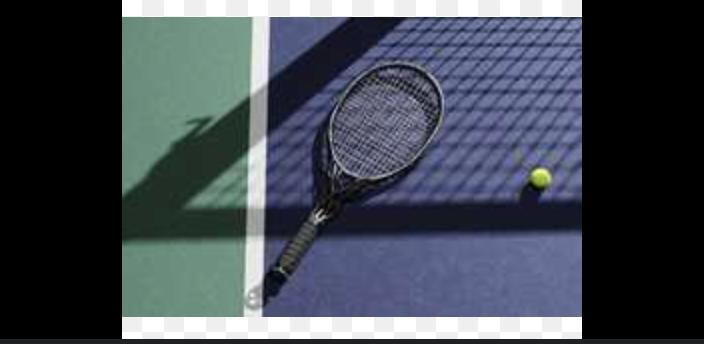Tennis-Racket: (266, 62, 444, 293)
